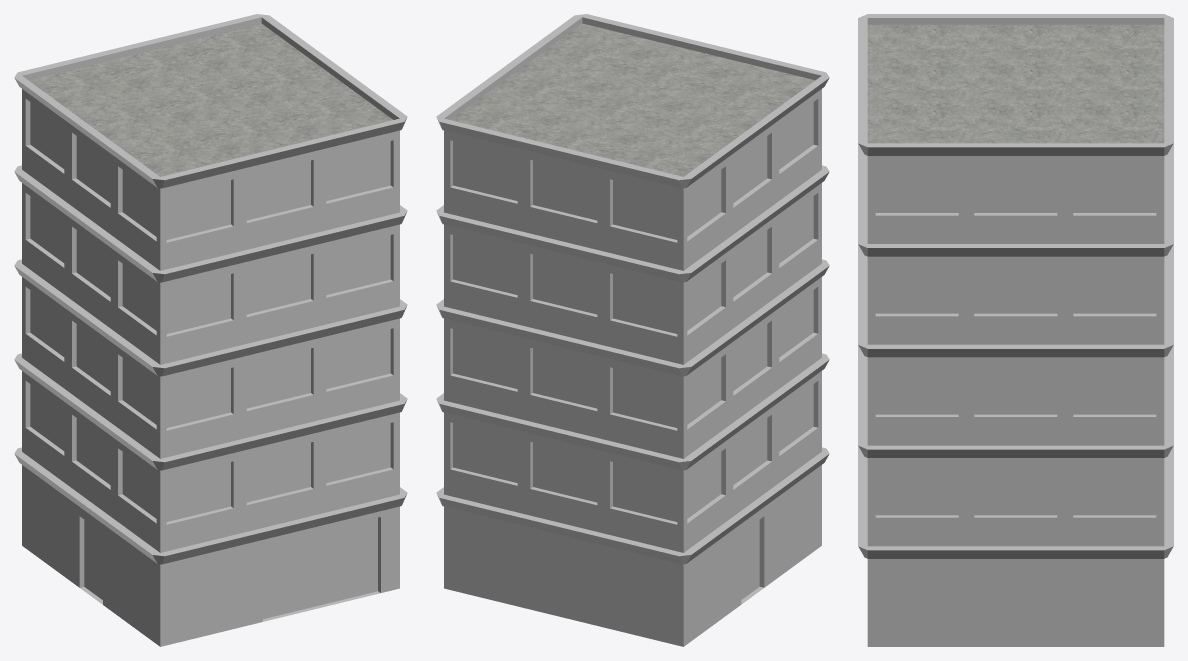
The model's file is RV_Building_Type_C_01.fbx.
The picture shows the model from 3 angles, left to right: view 1: azimuth 30°, elevation 25°; view 2: azimuth 150°, elevation 25°; view 3: azimuth 270°, elevation 25°; orthographic projection. The views are drawn at different scales.
Visible parts, largest first — view 1: RV_Building_Type_C_01; view 2: RV_Building_Type_C_01; view 3: RV_Building_Type_C_01.
Boxes of the visible parts, x1=… form: RV_Building_Type_C_01: x1=14, y1=14, x2=407, y2=646; RV_Building_Type_C_01: x1=436, y1=14, x2=829, y2=646; RV_Building_Type_C_01: x1=858, y1=14, x2=1173, y2=646.
Bounding box in the file's own units: 818 × 1440 × 818.
